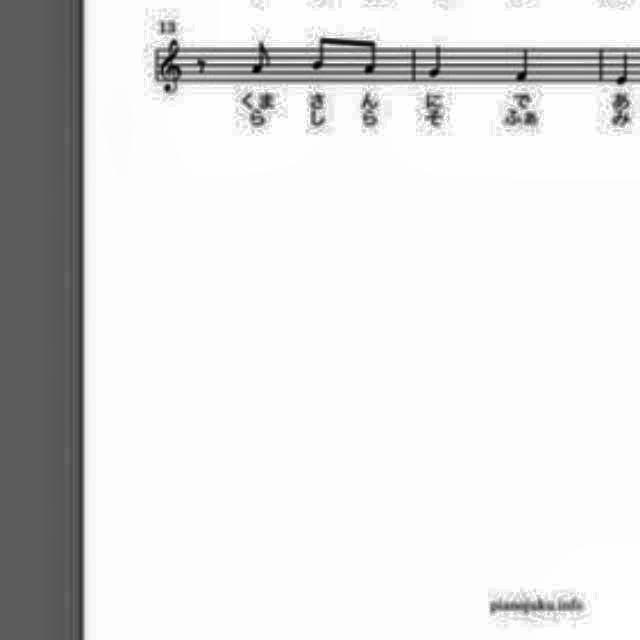Eighth-note: (356, 34, 392, 80), (298, 32, 334, 76), (248, 34, 276, 76)
Eighth-rest: (190, 49, 213, 82)
Quarter-note: (421, 41, 449, 84), (514, 44, 538, 90), (614, 43, 632, 91)
Treble-clef: (154, 38, 190, 98)
